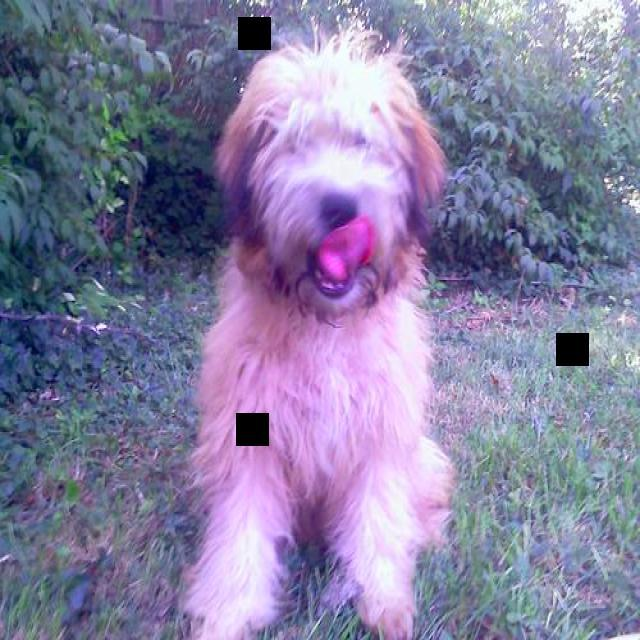adult_dog: (178, 29, 456, 640)
